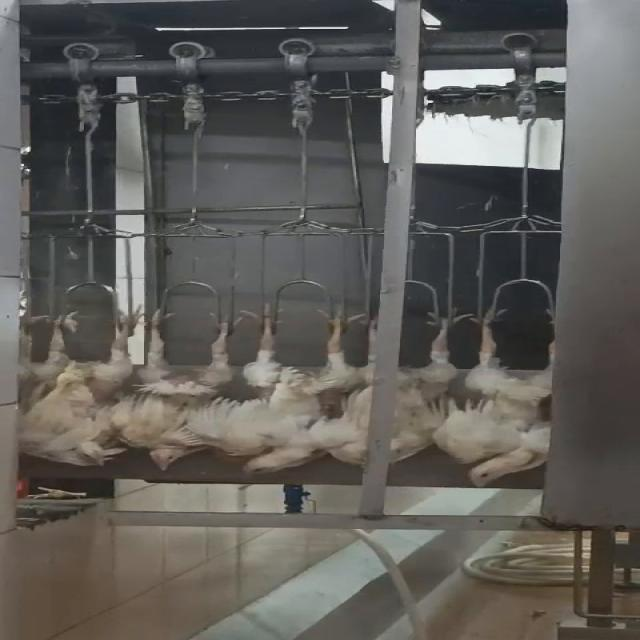chicken: (105, 298, 261, 474), (326, 306, 487, 473), (432, 300, 565, 484), (233, 300, 371, 477), (12, 304, 138, 468)
